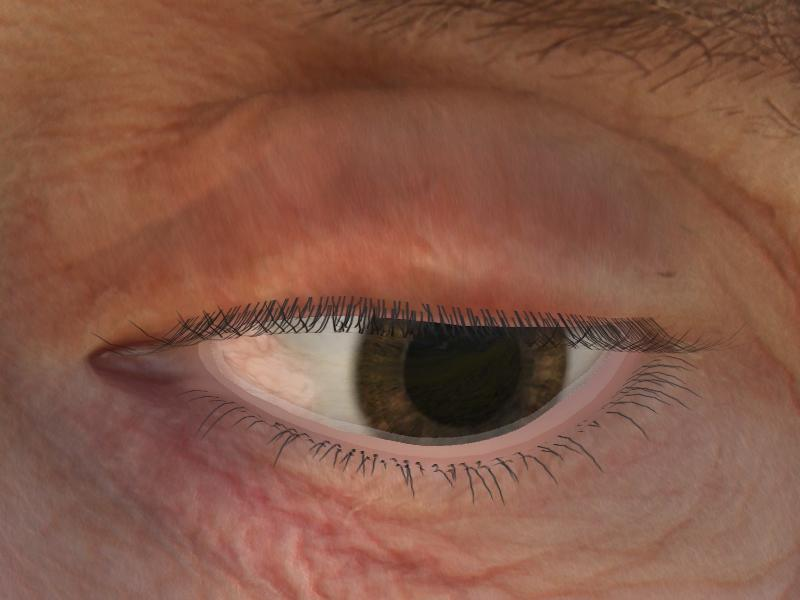eye: (357, 317, 576, 442)
